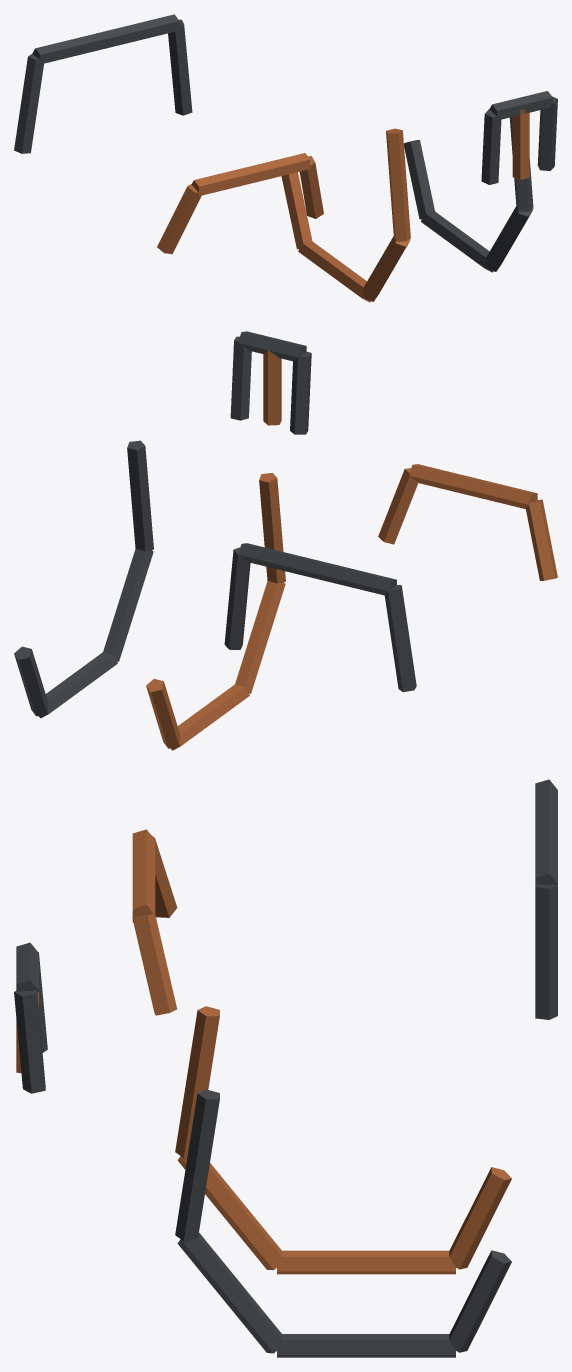
File: upg_cage_t2.glb
The picture shows the model from 3 angles, top to bottom: view 1: azimuth 30°, elevation 25°; view 2: azimuth 150°, elevation 25°; view 3: azimuth 270°, elevation 25°; orthographic projection. The views are drawn at different scales.
Visible parts, largest first — view 1: cage; view 2: cage; view 3: cage.
Boxes of the visible parts, x1,y1,x2,y2 form: cage: [14, 14, 557, 302]; cage: [14, 331, 557, 750]; cage: [14, 779, 557, 1357].
Size of the model in its own units: 1.39 by 0.8746 by 1.22.
